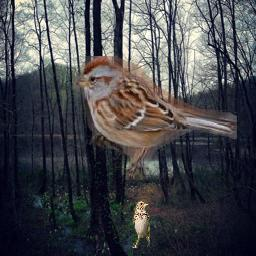Sparrow: (73, 56, 238, 180), (132, 200, 150, 249)
